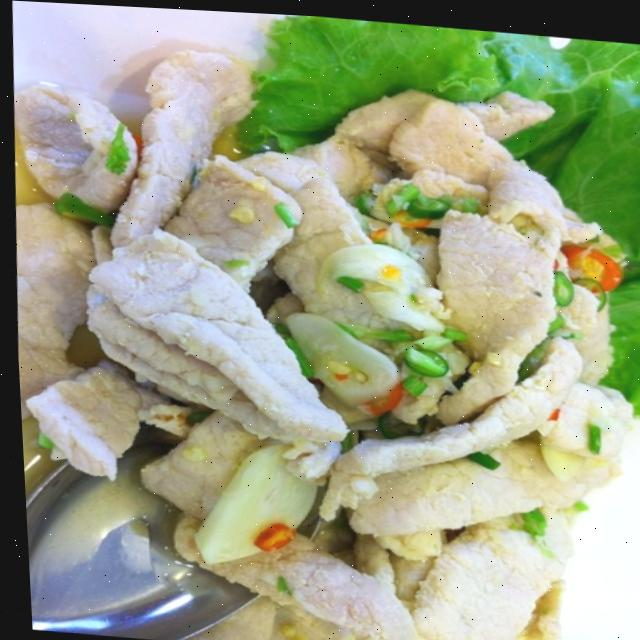猪肉菜式: (1, 18, 640, 640)
